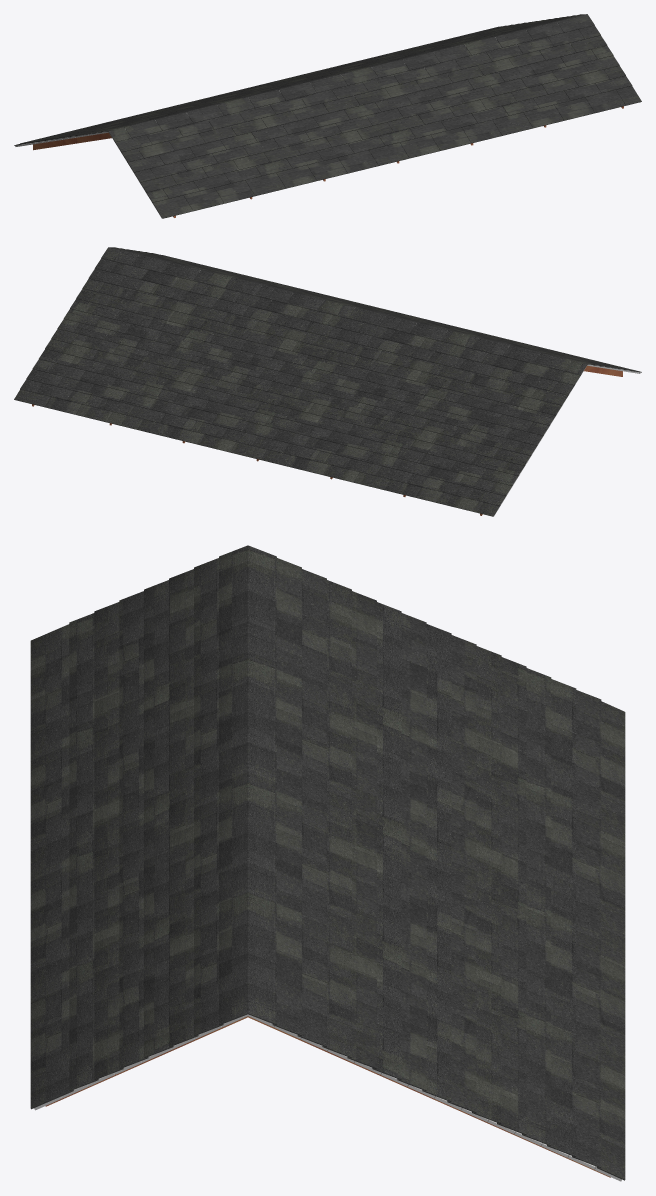
The model's file is Bar Harbor.obj.
3 renders of one model, top to bottom at view 1: azimuth 30°, elevation 25°; view 2: azimuth 150°, elevation 25°; view 3: azimuth 270°, elevation 25°, orthographic. The views are drawn at different scales.
Parts seen in each view (by area): view 1: shingles_top, shingles_back, roof_support001; view 2: shingles_back, shingles_top; view 3: shingles_back, shingles_top, tar_back, roof_support007.
Boxes of the visible parts, box(x1,y1,x2,y2) form: shingles_top: box(108, 14, 641, 218); shingles_back: box(14, 14, 587, 145); roof_support001: box(33, 132, 175, 217); shingles_back: box(14, 247, 587, 516); shingles_top: box(110, 247, 641, 372); shingles_back: box(248, 545, 625, 1180); shingles_top: box(30, 545, 247, 1109); tar_back: box(248, 1014, 621, 1181); roof_support007: box(45, 1016, 610, 1177).
Bounding box in the file's own units: 217 × 38.57 × 116.
